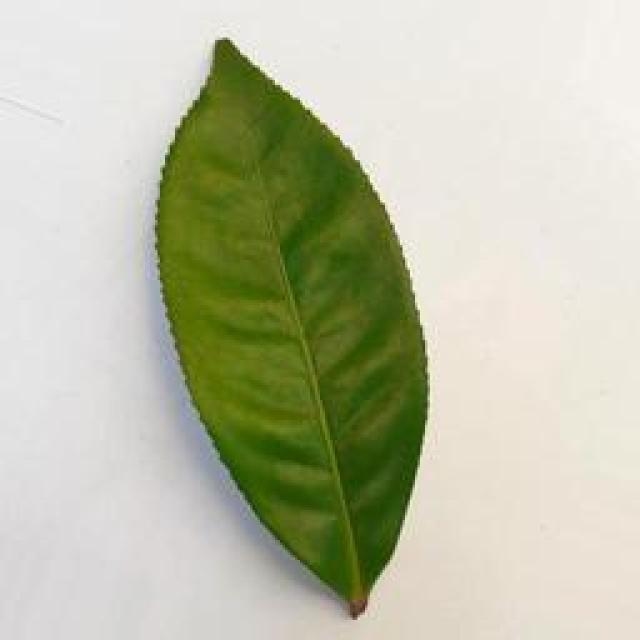Healthy: (156, 28, 433, 615)
